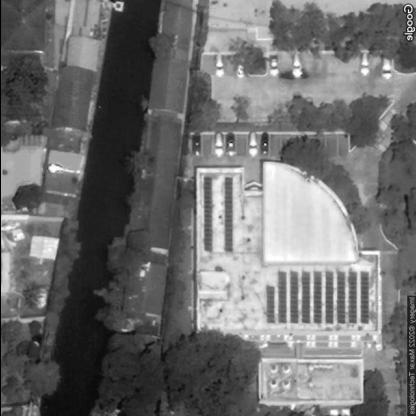solar-pv-panel: (265, 273, 371, 325), (203, 178, 213, 253), (224, 176, 233, 254)
